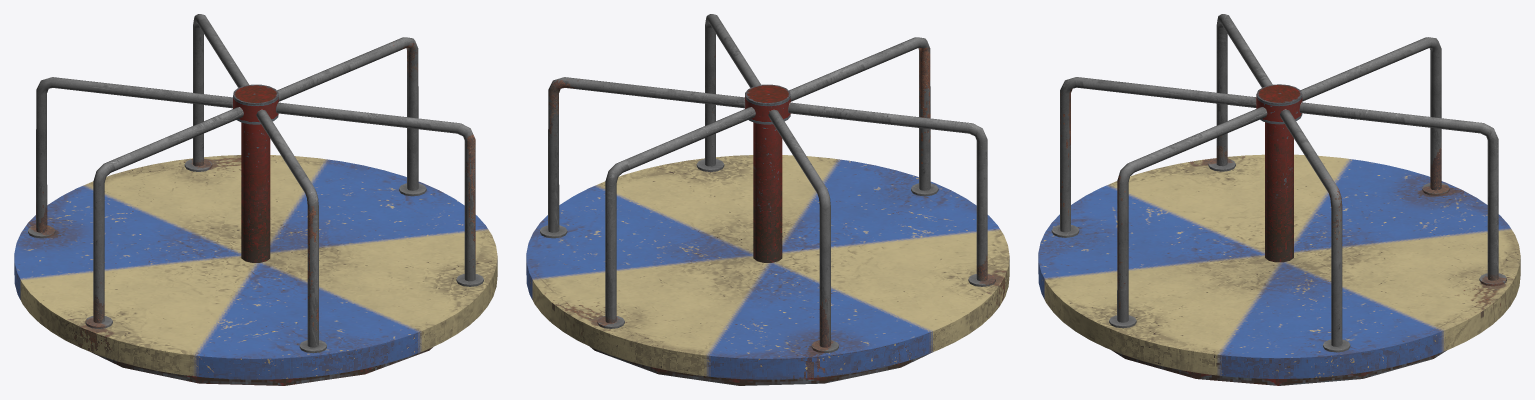
File: Location_community_park_01_20-23.glb
3 renders of one model, left to right at view 1: azimuth 30°, elevation 25°; view 2: azimuth 150°, elevation 25°; view 3: azimuth 270°, elevation 25°, orthographic.
Parts seen in each view (by area): view 1: Location_community_park_01_20-23; view 2: Location_community_park_01_20-23; view 3: Location_community_park_01_20-23.
Boxes of the visible parts, x1,y1,x2,y2 form: Location_community_park_01_20-23: [14, 14, 497, 385]; Location_community_park_01_20-23: [526, 14, 1009, 385]; Location_community_park_01_20-23: [1038, 14, 1520, 385].
Bounding box in the file's own units: 2.1 × 0.96 × 2.1.
Materials: 1 (1 with a texture image).
